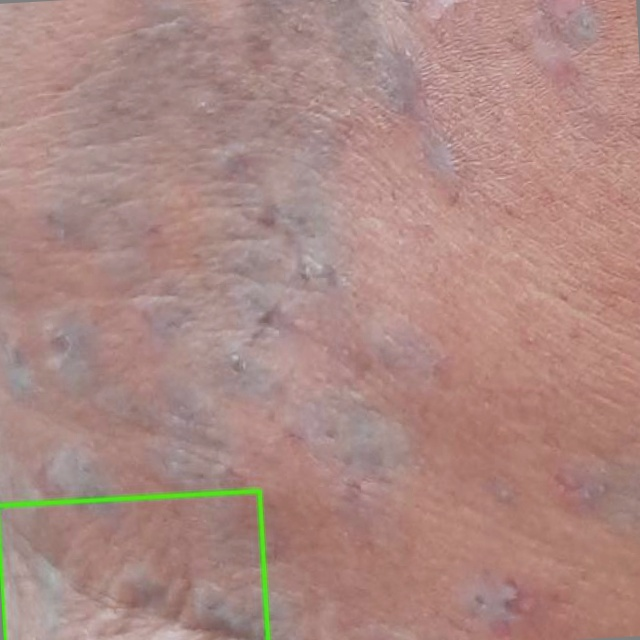Contact Dermatitis: (0, 490, 268, 639)
